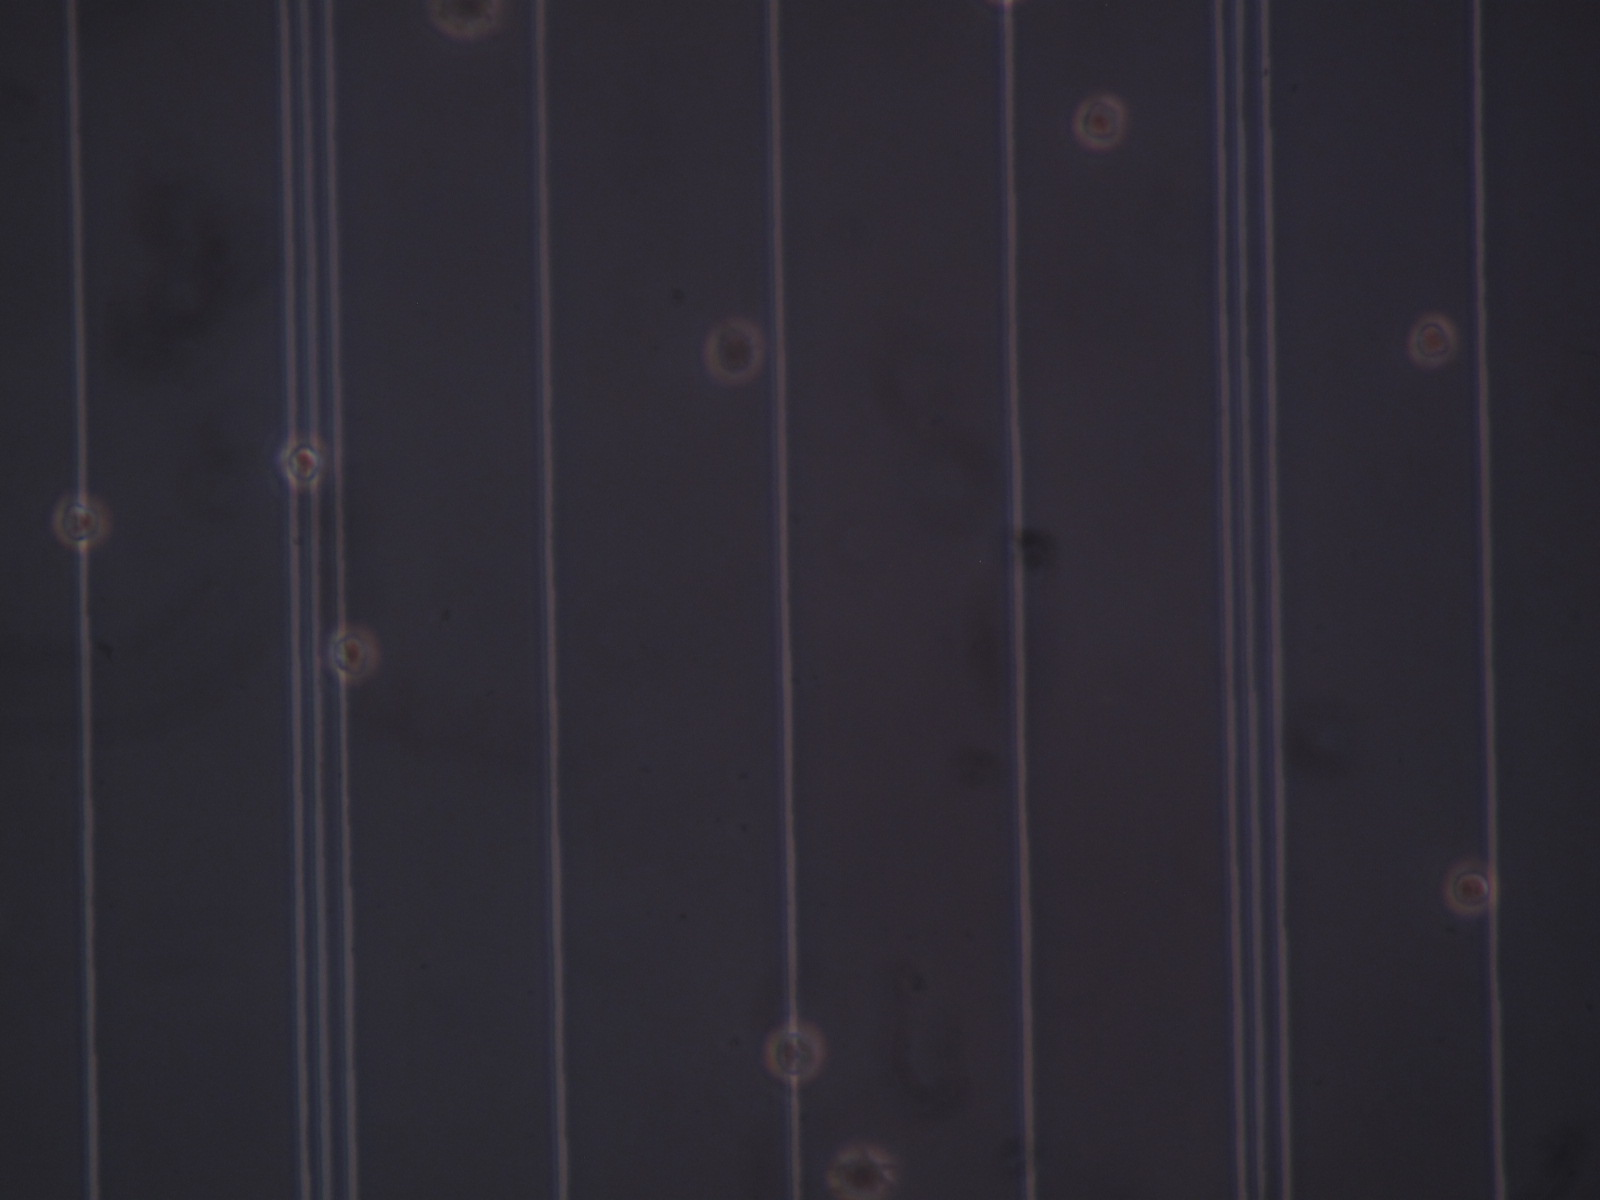hemo: (703, 318, 763, 383), (765, 1024, 825, 1083), (826, 1145, 891, 1200), (52, 494, 108, 550), (328, 624, 379, 682), (1443, 861, 1495, 915), (427, 1, 503, 39), (1073, 95, 1125, 149), (1409, 313, 1456, 366), (278, 436, 325, 489)
